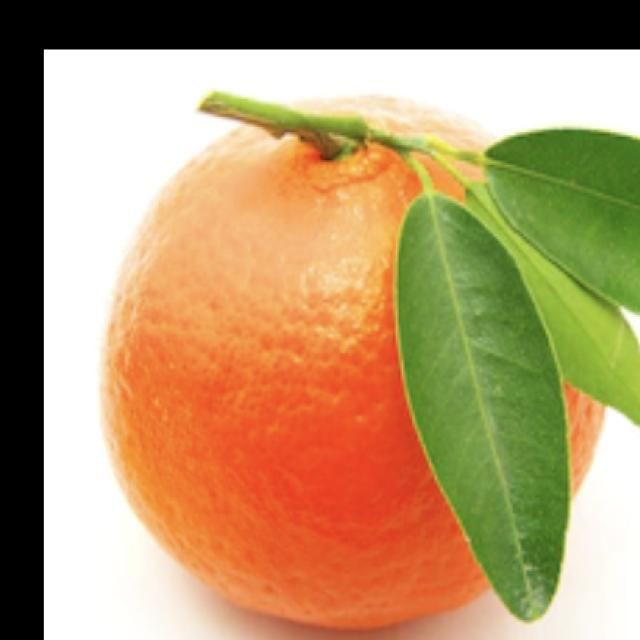orange: (96, 98, 608, 632)
